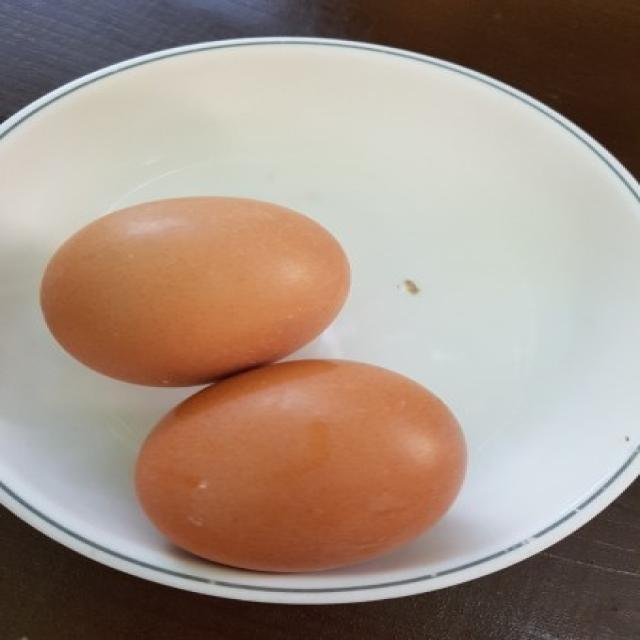eggs: (124, 356, 470, 580), (36, 194, 359, 394)
